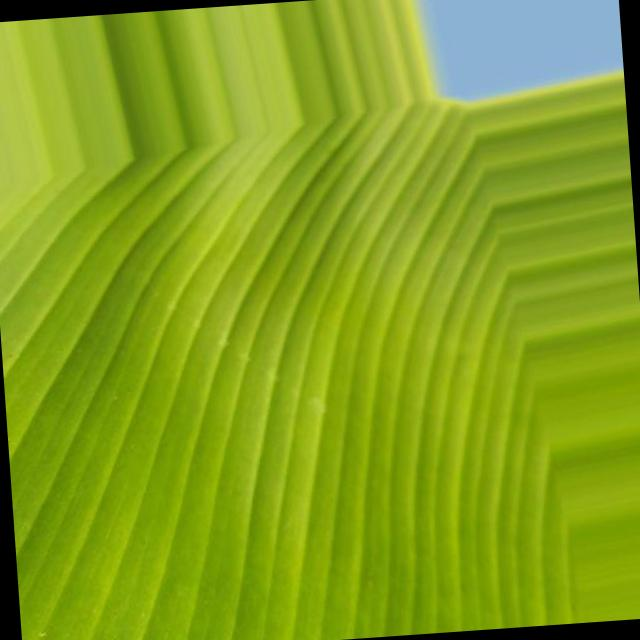Banana_Healthy: (115, 204, 469, 554)
